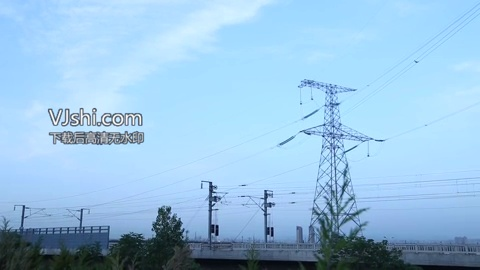tower_body: (289, 71, 373, 246)
tower_foot: (306, 204, 367, 242)
tower_head: (293, 74, 359, 97)
